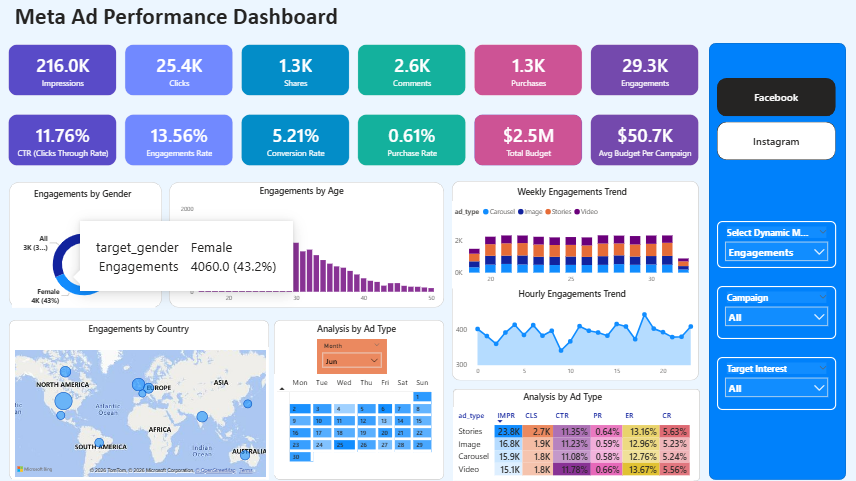

This screenshot's page, from the dashboard's own definition file:
{"tool":"powerbi","page":{"name":"Facebook","canvas":[1570,900],"ordinal":0},"visuals":[{"type":"textbox","box":[23.8,0,609.1,65.9],"z":0},{"type":"shape","box":[1298.8,80.5,250.6,799.4],"z":1000},{"type":"cardVisual","fields":{"Data":["ad_events.Impressions","ad_events.Clicks","ad_events.Shares","ad_events.Comments","ad_events.Purchases","ad_events.Engagements"]},"box":[0,65.9,1298.8,128],"z":2000},{"type":"cardVisual","fields":{"Data":["ad_events.CTR (Clicks Through Rate)","ad_events.Engagements Rate","ad_events.Conversion Rate","ad_events.Purchase Rate","ad_events.Total Budget","ad_events.Avg Budget Per Campaign"]},"box":[0,193.9,1298.8,128],"z":3000},{"type":"slicer","fields":{"Values":["Select Dynamic Measure.Select Dynamic Measure"]},"box":[1313.4,406.1,217.7,86],"z":4000},{"type":"shape","box":[18.3,334.8,279.9,230.5],"z":5000},{"type":"donutChart","fields":{"Y":["ad_events.Engagements"],"Category":["ads.target_gender"]},"box":[23.8,406.1,261.6,159.1],"z":6000},{"type":"card","fields":{"Values":["ad_events.Gender Title"]},"box":[51.2,338.4,203,38.4],"z":7000},{"type":"shape","box":[311.7,335,503.3,230],"z":8000},{"type":"columnChart","fields":{"Y":["ad_events.Engagements"],"Category":["users.user_age"]},"box":[328.3,370,475,195],"z":9000},{"type":"card","fields":{"Values":["ad_events.Age Title"]},"box":[451.8,334.8,203,34.8],"z":10000},{"type":"shape","box":[18.3,587.2,475.6,292.7],"z":11000},{"type":"map","fields":{"Size":["ad_events.Engagements"],"Category":["users.country"]},"box":[23.8,636.6,470.1,243.3],"z":12000},{"type":"card","fields":{"Values":["ad_events.Map Title"]},"box":[153.7,587.2,203,34.8],"z":13000},{"type":"shape","box":[502.5,587.5,311.2,292.5],"z":14000},{"type":"pivotTable","fields":{"Rows":["Calendar Table.Week Number"],"Values":["Min(Calendar Table.Day Number)"],"Columns":["Calendar Table.Day Name"]},"box":[502.5,686.2,301.2,185],"z":15000},{"type":"slicer","fields":{"Values":["Calendar Table.Month"]},"box":[581.2,622.5,127.5,63.8],"z":16000},{"type":"card","fields":{"Values":["ad_events.Month Title"]},"box":[552.4,587.2,203,34.8],"z":17000},{"type":"shape","box":[828.3,333.3,451.7,365],"z":18000},{"type":"columnChart","fields":{"Y":["ad_events.Engagements"],"Category":["Calendar Table.Week Number"],"Series":["ads.ad_type"]},"box":[828.3,370,440,160],"z":19000},{"type":"card","fields":{"Values":["ad_events.Weekly Title"]},"box":[929.3,340.2,237.8,29.3],"z":20000},{"type":"areaChart","fields":{"Y":["ad_events.Engagements"],"Category":["ad_events.Event Hour"]},"box":[830,558.3,450,140],"z":21000},{"type":"card","fields":{"Values":["ad_events.Hourly Title"]},"box":[929.3,525,237.8,32.9],"z":22000},{"type":"shape","box":[830,713.3,451.7,168.3],"z":23000},{"type":"pivotTable","fields":{"Rows":["ads.ad_type"],"Values":["ad_events.Impressions","ad_events.Clicks","ad_events.CTR (Clicks Through Rate)","ad_events.Purchase Rate","ad_events.Engagements Rate","ad_events.Conversion Rate"]},"box":[830,746.7,440,135],"z":24000},{"type":"card","fields":{"Values":["ad_events.Matrix Title"]},"box":[930,711.7,203.3,35],"z":25000},{"type":"slicer","fields":{"Values":["campaigns.name"]},"box":[1313.4,525,217.7,97],"z":26000},{"type":"slicer","fields":{"Values":["ads.target_interests"]},"box":[1313.4,654.9,217.7,97],"z":27000},{"type":"pageNavigator","box":[1313.4,144.5,217.7,150],"z":27001}]}

Visuals, with their boxes in screenshot pixels (x1, y1, x2, y2), scaled from the page's 1570x900 canvas onto the 856x481 screenshot:
textbox: x1=13, y1=0, x2=345, y2=35
shape: x1=708, y1=43, x2=845, y2=470
cardVisual - ad_events.Impressions x ad_events.Clicks: x1=0, y1=35, x2=708, y2=104
cardVisual - ad_events.CTR (Clicks Through Rate) x ad_events.Engagements Rate: x1=0, y1=104, x2=708, y2=172
slicer - Select Dynamic Measure.Select Dynamic Measure: x1=716, y1=217, x2=835, y2=263
shape: x1=10, y1=179, x2=163, y2=302
donutChart - ad_events.Engagements x ads.target_gender: x1=13, y1=217, x2=156, y2=302
card - ad_events.Gender Title: x1=28, y1=181, x2=139, y2=201
shape: x1=170, y1=179, x2=444, y2=302
columnChart - ad_events.Engagements x users.user_age: x1=179, y1=198, x2=438, y2=302
card - ad_events.Age Title: x1=246, y1=179, x2=357, y2=198
shape: x1=10, y1=314, x2=269, y2=470
map - ad_events.Engagements x users.country: x1=13, y1=340, x2=269, y2=470
card - ad_events.Map Title: x1=84, y1=314, x2=194, y2=332
shape: x1=274, y1=314, x2=444, y2=470
pivotTable - Calendar Table.Week Number x Min(Calendar Table.Day Number): x1=274, y1=367, x2=438, y2=466
slicer - Calendar Table.Month: x1=317, y1=333, x2=386, y2=367
card - ad_events.Month Title: x1=301, y1=314, x2=412, y2=332
shape: x1=452, y1=178, x2=698, y2=373
columnChart - ad_events.Engagements x Calendar Table.Week Number: x1=452, y1=198, x2=692, y2=283
card - ad_events.Weekly Title: x1=507, y1=182, x2=636, y2=197
areaChart - ad_events.Engagements x ad_events.Event Hour: x1=453, y1=298, x2=698, y2=373
card - ad_events.Hourly Title: x1=507, y1=281, x2=636, y2=298
shape: x1=453, y1=381, x2=699, y2=471
pivotTable - ads.ad_type x ad_events.Impressions: x1=453, y1=399, x2=692, y2=471
card - ad_events.Matrix Title: x1=507, y1=380, x2=618, y2=399
slicer - campaigns.name: x1=716, y1=281, x2=835, y2=332
slicer - ads.target_interests: x1=716, y1=350, x2=835, y2=402
pageNavigator: x1=716, y1=77, x2=835, y2=157
